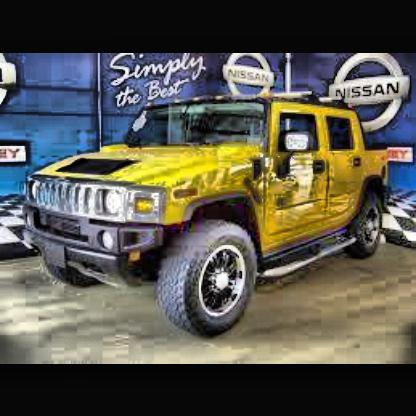HUMMER H2 SUT Crew Cab 2009: (20, 90, 394, 346)
